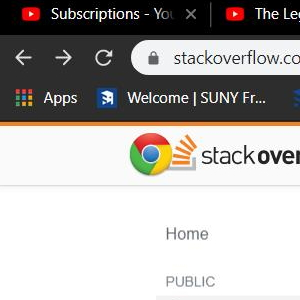chrome: (129, 133, 172, 176)
